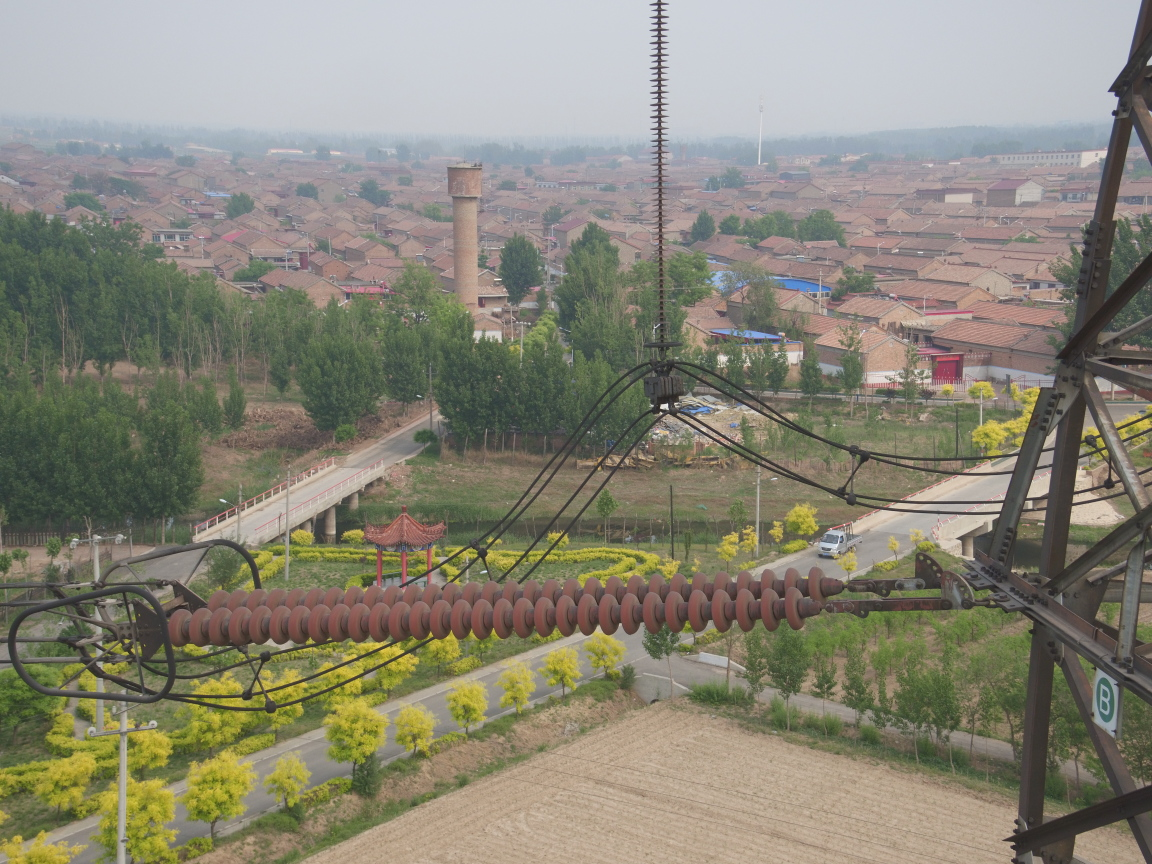insulator: (155, 564, 898, 651)
